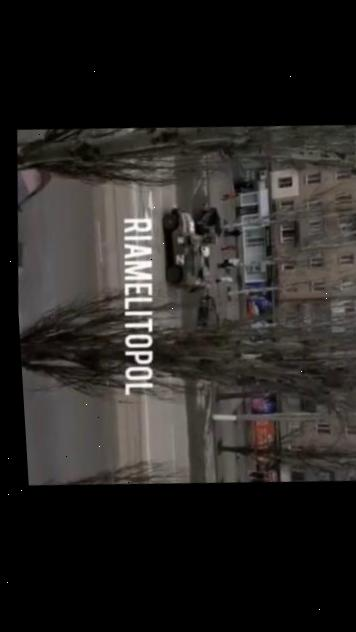armored_car: (157, 203, 215, 294)
car: (14, 154, 56, 226)
person: (216, 186, 243, 205), (212, 272, 237, 286), (222, 226, 245, 241), (219, 241, 242, 255), (214, 259, 238, 270)
